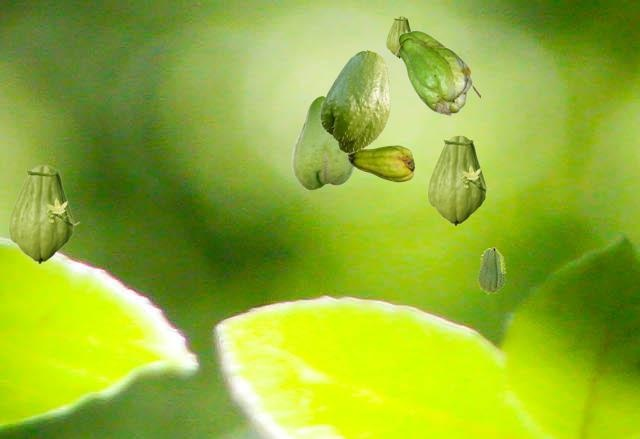sayote: (318, 50, 390, 153), (394, 30, 479, 115), (8, 165, 79, 263), (291, 95, 354, 189), (427, 135, 491, 225), (345, 145, 413, 181), (477, 247, 505, 293), (386, 16, 410, 57)
